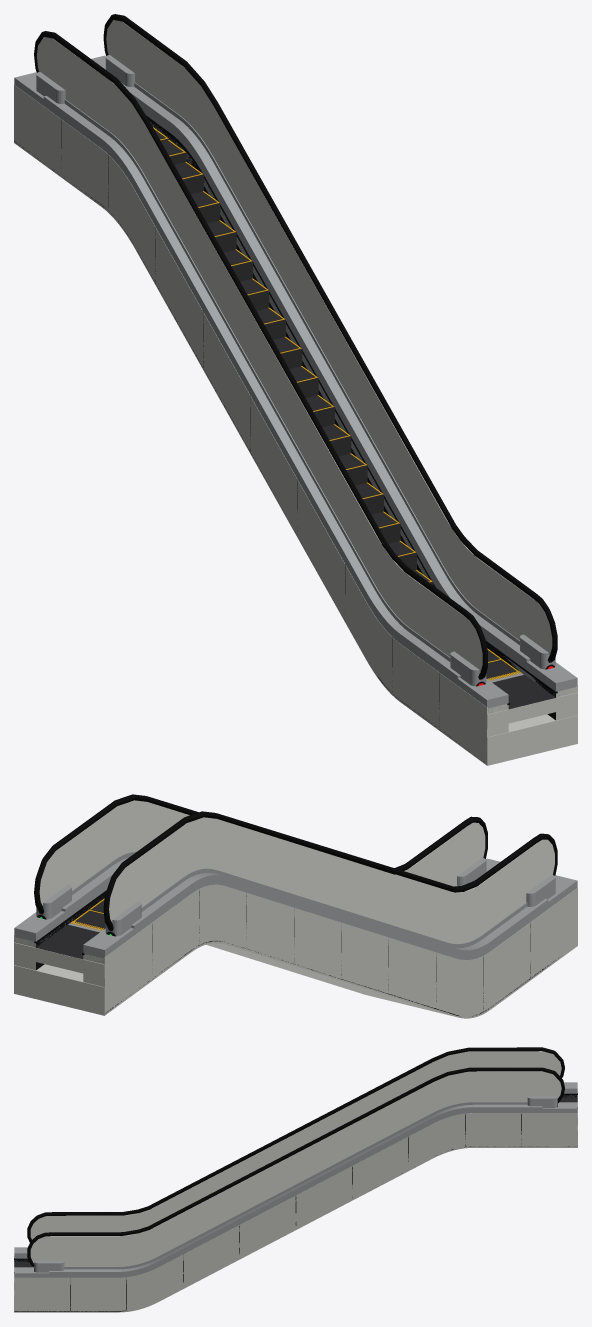
File: gteki_escalator_s600_r3500_down.glb
The picture shows the model from 3 angles, top to bottom: view 1: azimuth 30°, elevation 25°; view 2: azimuth 150°, elevation 25°; view 3: azimuth 270°, elevation 25°; orthographic projection. The views are drawn at different scales.
Parts seen in each view (by area): view 1: VIS_body; view 2: VIS_body; view 3: VIS_body.
Boxes of the visible parts, x1=… form: VIS_body: x1=14, y1=14, x2=577, y2=765; VIS_body: x1=14, y1=794, x2=577, y2=1018; VIS_body: x1=14, y1=1047, x2=577, y2=1312.
Size of what is drawn, in the model's own units: 1.21 by 5.13 by 10.86.
Materials: 1 (1 with a texture image).
